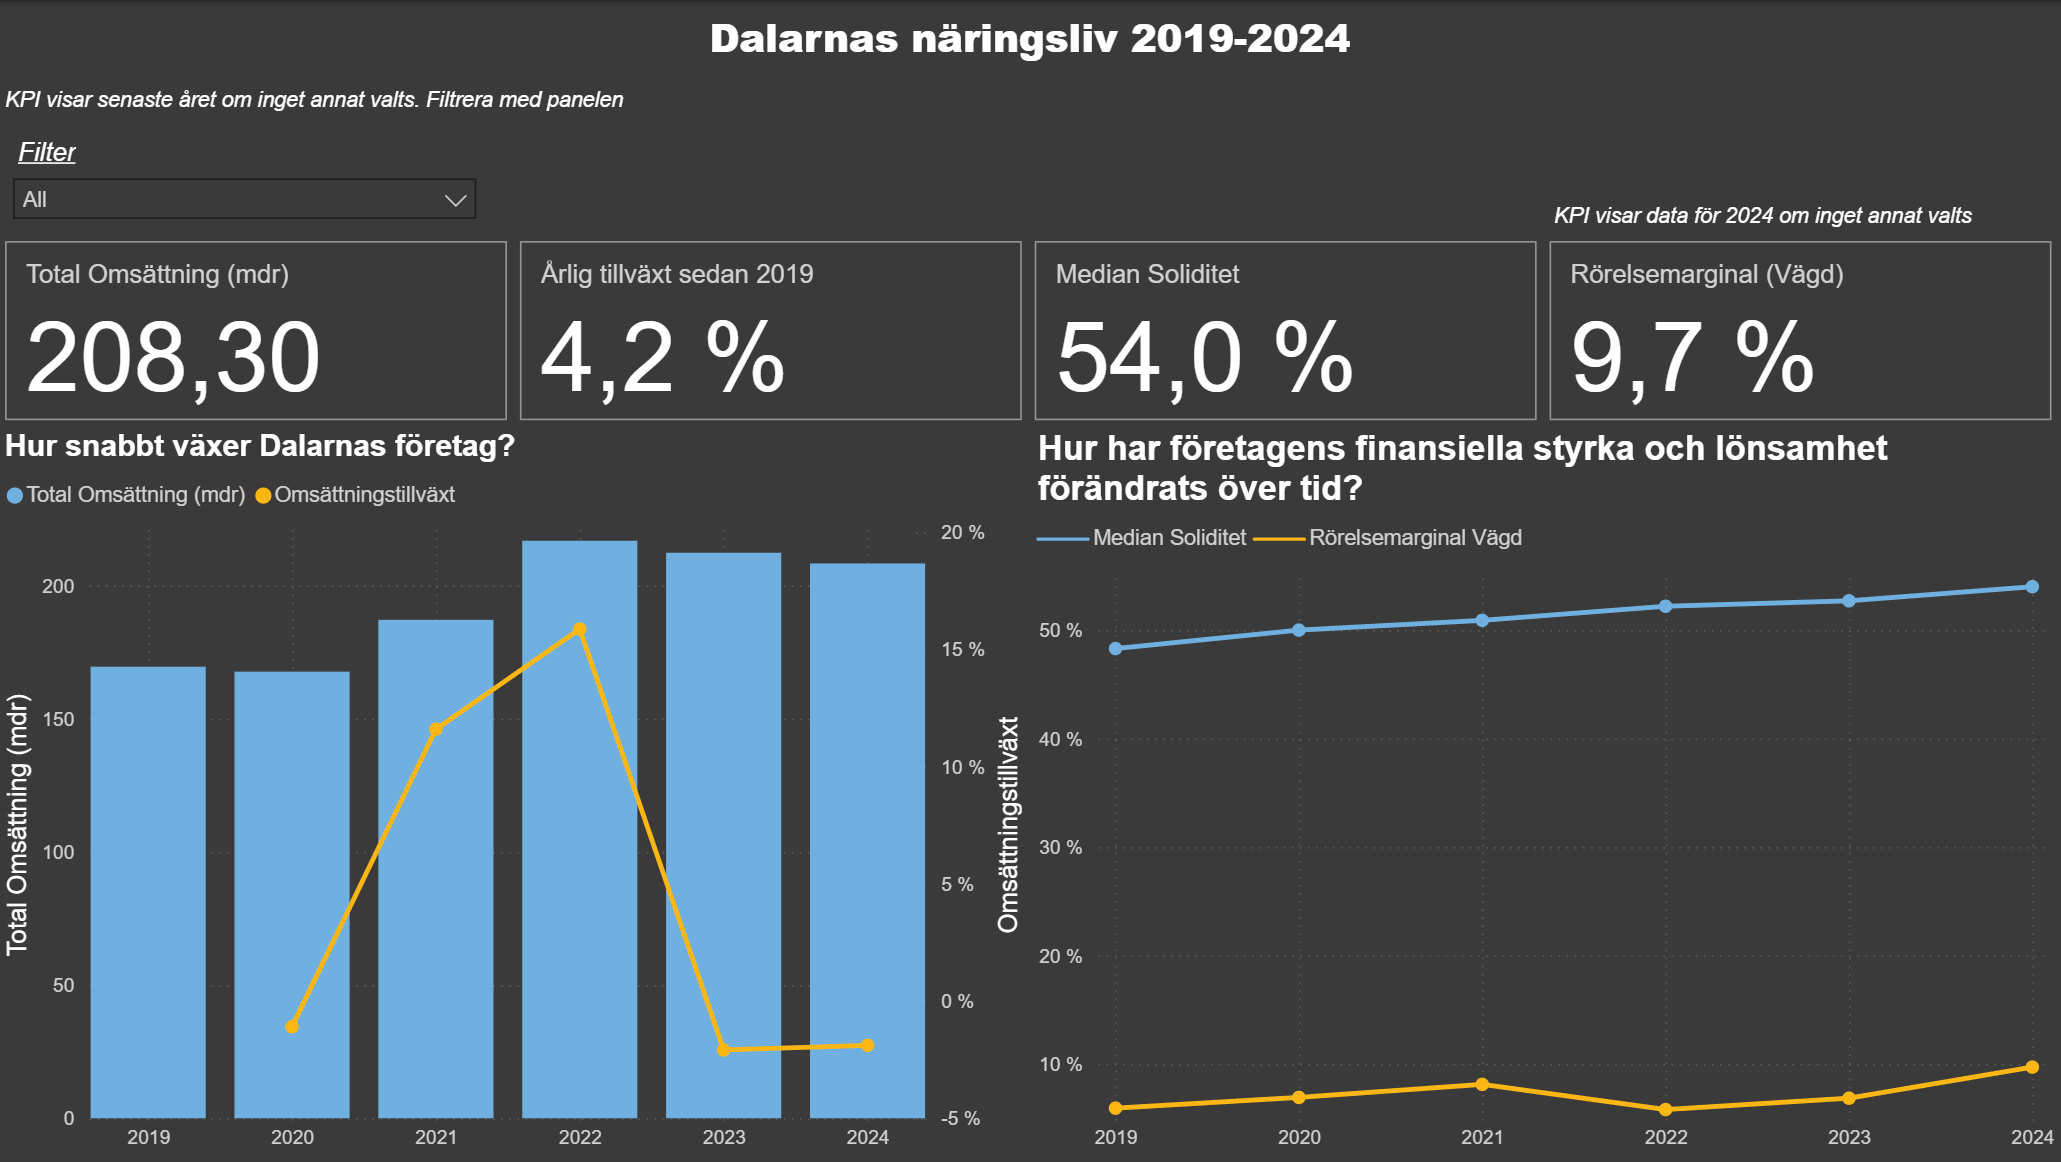

This screenshot's page, from the dashboard's own definition file:
{"tool":"powerbi","page":{"name":"Översikt","canvas":[1280,720],"ordinal":0},"visuals":[{"type":"cardVisual","fields":{"Data":["Financials.Total Omsättning (mdr)","Financials.Omsättning CAGR fr. 2019 (%)","Financials.Median Soliditet","Financials.Vägt Rörelsemarginal"]},"box":[0,143.1,1279.5,121.4],"z":0},{"type":"card","title":"Valt år","fields":{"Values":["Financials.Visat år"]},"box":[1111.8,0,144.7,81.7],"z":1000},{"type":"textbox","box":[0,0,1279.8,79.2],"z":2000},{"type":"lineChart","title":"Hur har företagens finansiella styrka och lönsamhet förändrats över tid?","fields":{"Category":["dimYear.YearText"],"Y":["Financials.Median Soliditet","Financials.Vägt Rörelsemarginal"]},"box":[640.1,264.6,640.1,455.4],"z":3000},{"type":"lineStackedColumnComboChart","title":"Hur snabbt växer Dalarnas företag?","fields":{"Category":["dimYear.YearText"],"Y2":["Financials.Omsättningstillväxt YoY (Trend) %"],"Y":["Financials.Total Omsättning (mdr)"]},"box":[0,264.6,640.1,455.4],"z":4000},{"type":"slicer","fields":{"Values":["dimYear.YearText","Financials.Bransch huvudgrupp","Financials.Kommunsäte"]},"box":[0,79.3,306.7,63.8],"z":5000},{"type":"textbox","box":[960,120,300.5,26],"z":6000}]}

Visuals, with their boxes in screenshot pixels (x1, y1, x2, y2), scaled from the page's 1280x720 canvas onto the 2061x1162 screenshot:
cardVisual - Financials.Total Omsättning (mdr) x Financials.Omsättning CAGR fr. 2019 (%): (left=0, top=231, right=2060, bottom=427)
"Valt år" card: (left=1790, top=0, right=2023, bottom=132)
textbox: (left=0, top=0, right=2060, bottom=128)
"Hur har företagens finansiella styrka och lönsamhet förändrats över tid?" lineChart: (left=1031, top=427, right=2060, bottom=1161)
"Hur snabbt växer Dalarnas företag?" lineStackedColumnComboChart: (left=0, top=427, right=1031, bottom=1161)
slicer - dimYear.YearText x Financials.Bransch huvudgrupp: (left=0, top=128, right=494, bottom=231)
textbox: (left=1546, top=194, right=2030, bottom=236)
